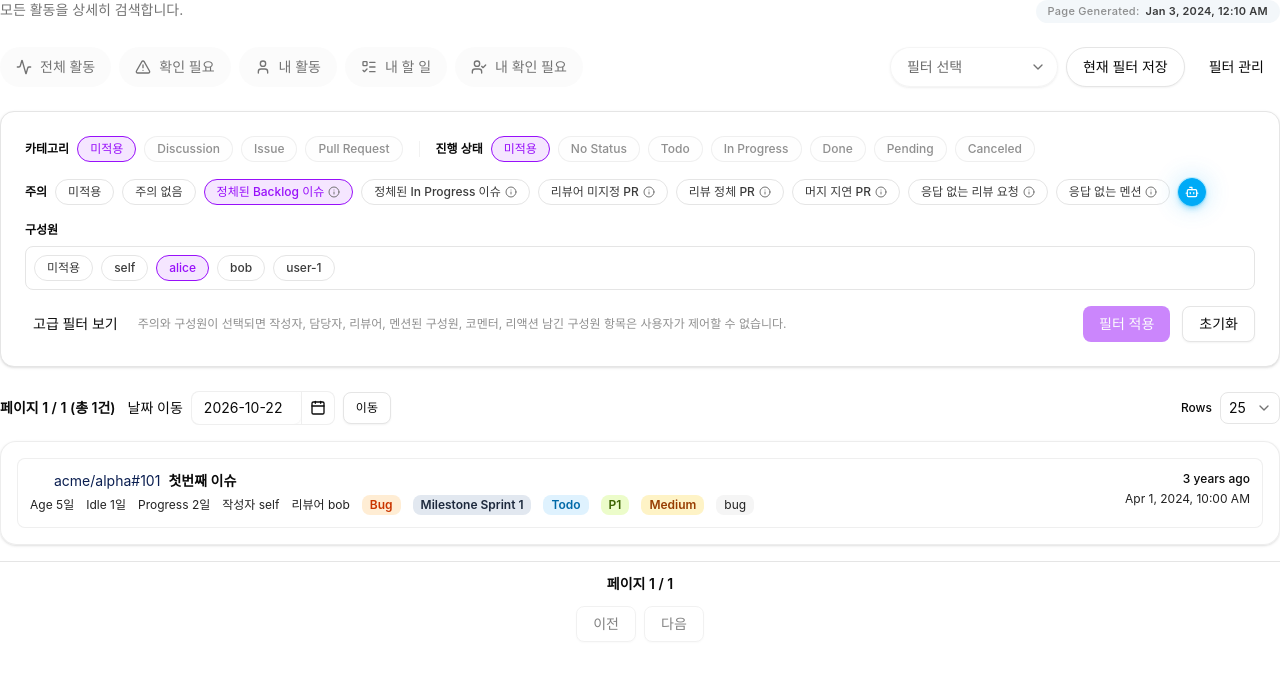
Test: ActivityView › restores manual people filter control when attention filters are removed
This screenshot has width=1280, height=687.
Click the button "고급 필터 보기" at (75, 324), box [25, 308, 126, 340]
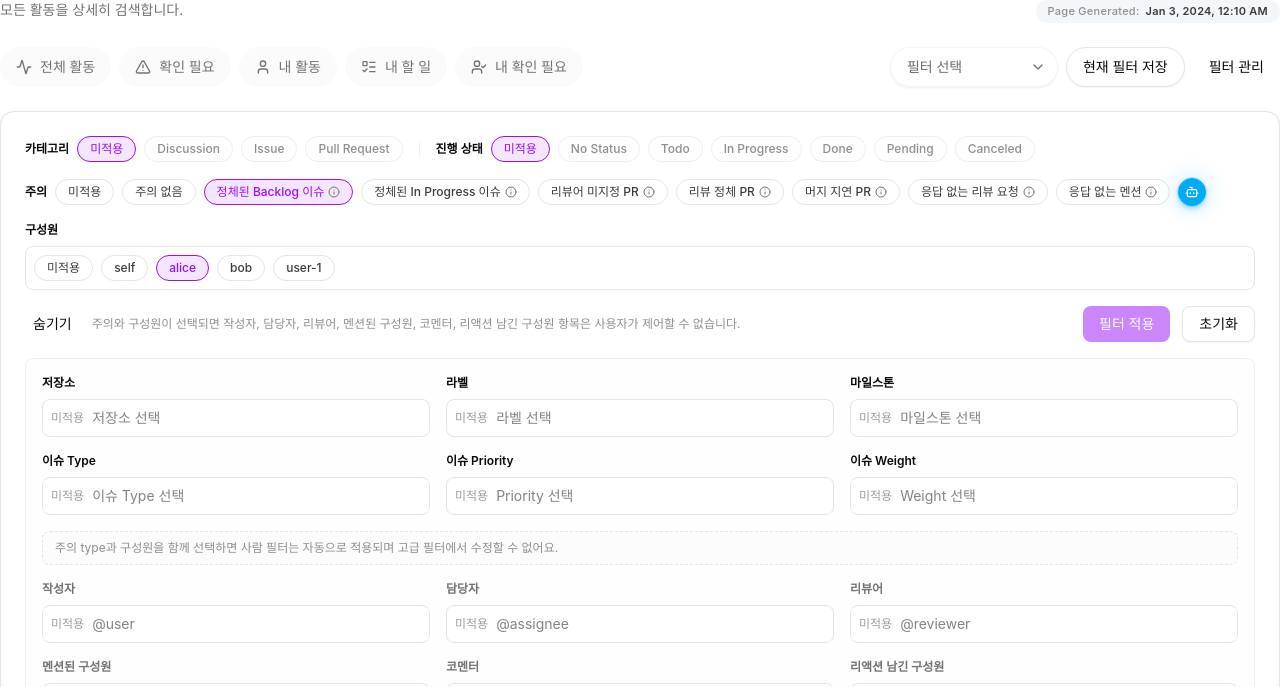
Click the 3rd button "미적용" at (85, 192), box [55, 179, 114, 205]
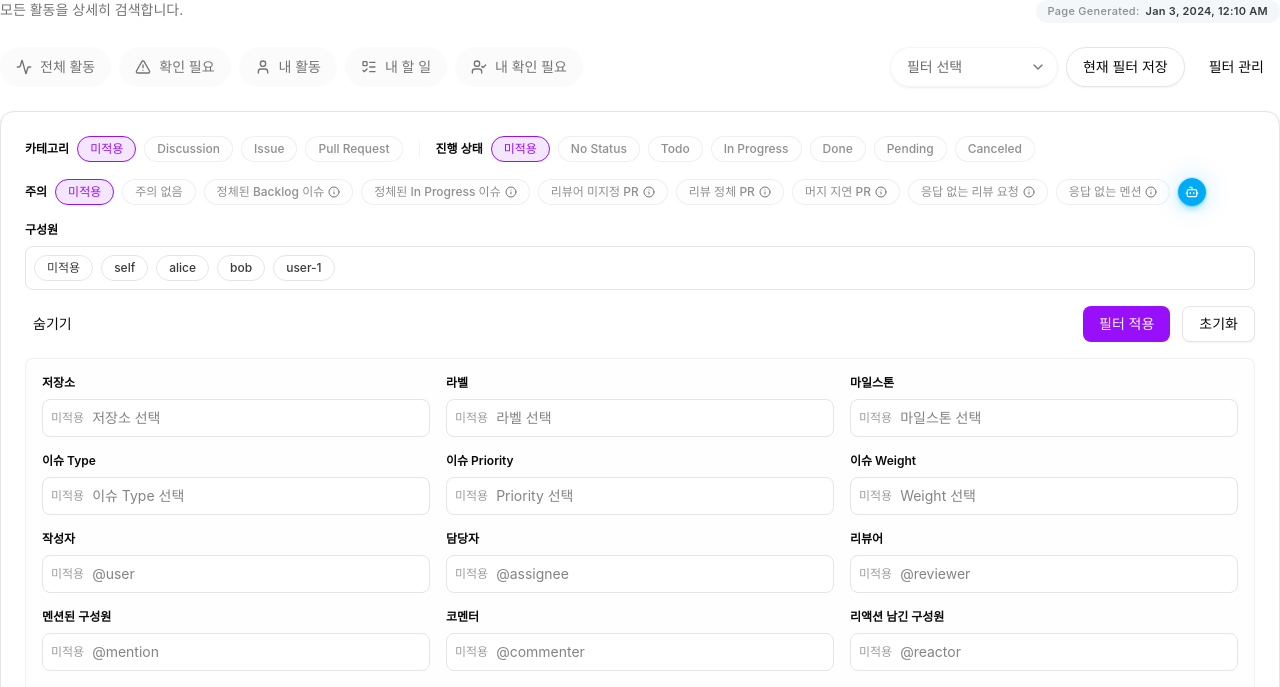
Check: the text "사람 필터는 자동으로 적용되며 고급 필터에서 수정할 수 없어요" is gone
Check: the field with placeholder "@user" is enabled, box [88, 560, 421, 588]
Check: the field with placeholder "@assignee" is enabled, box [492, 560, 825, 588]
